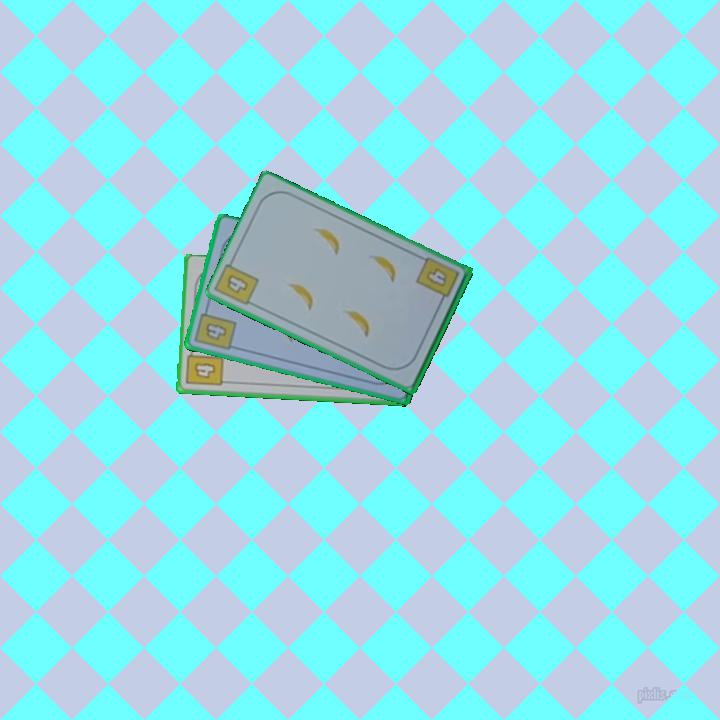4b: (413, 256, 462, 308), (191, 303, 239, 354), (183, 345, 226, 389), (223, 271, 251, 297)
